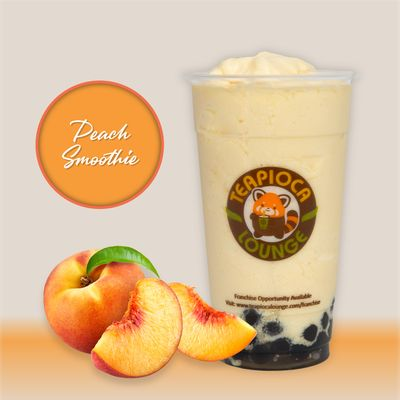steak: (42, 245, 257, 377), (42, 247, 159, 354)
